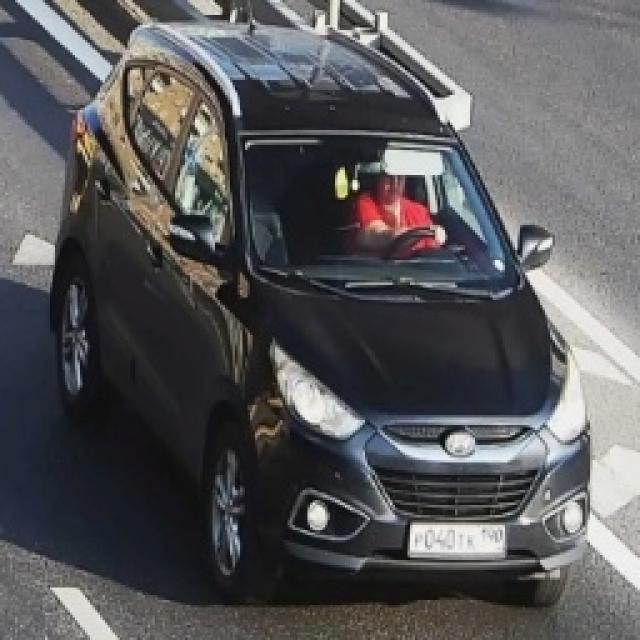windshield: (238, 128, 520, 309)
